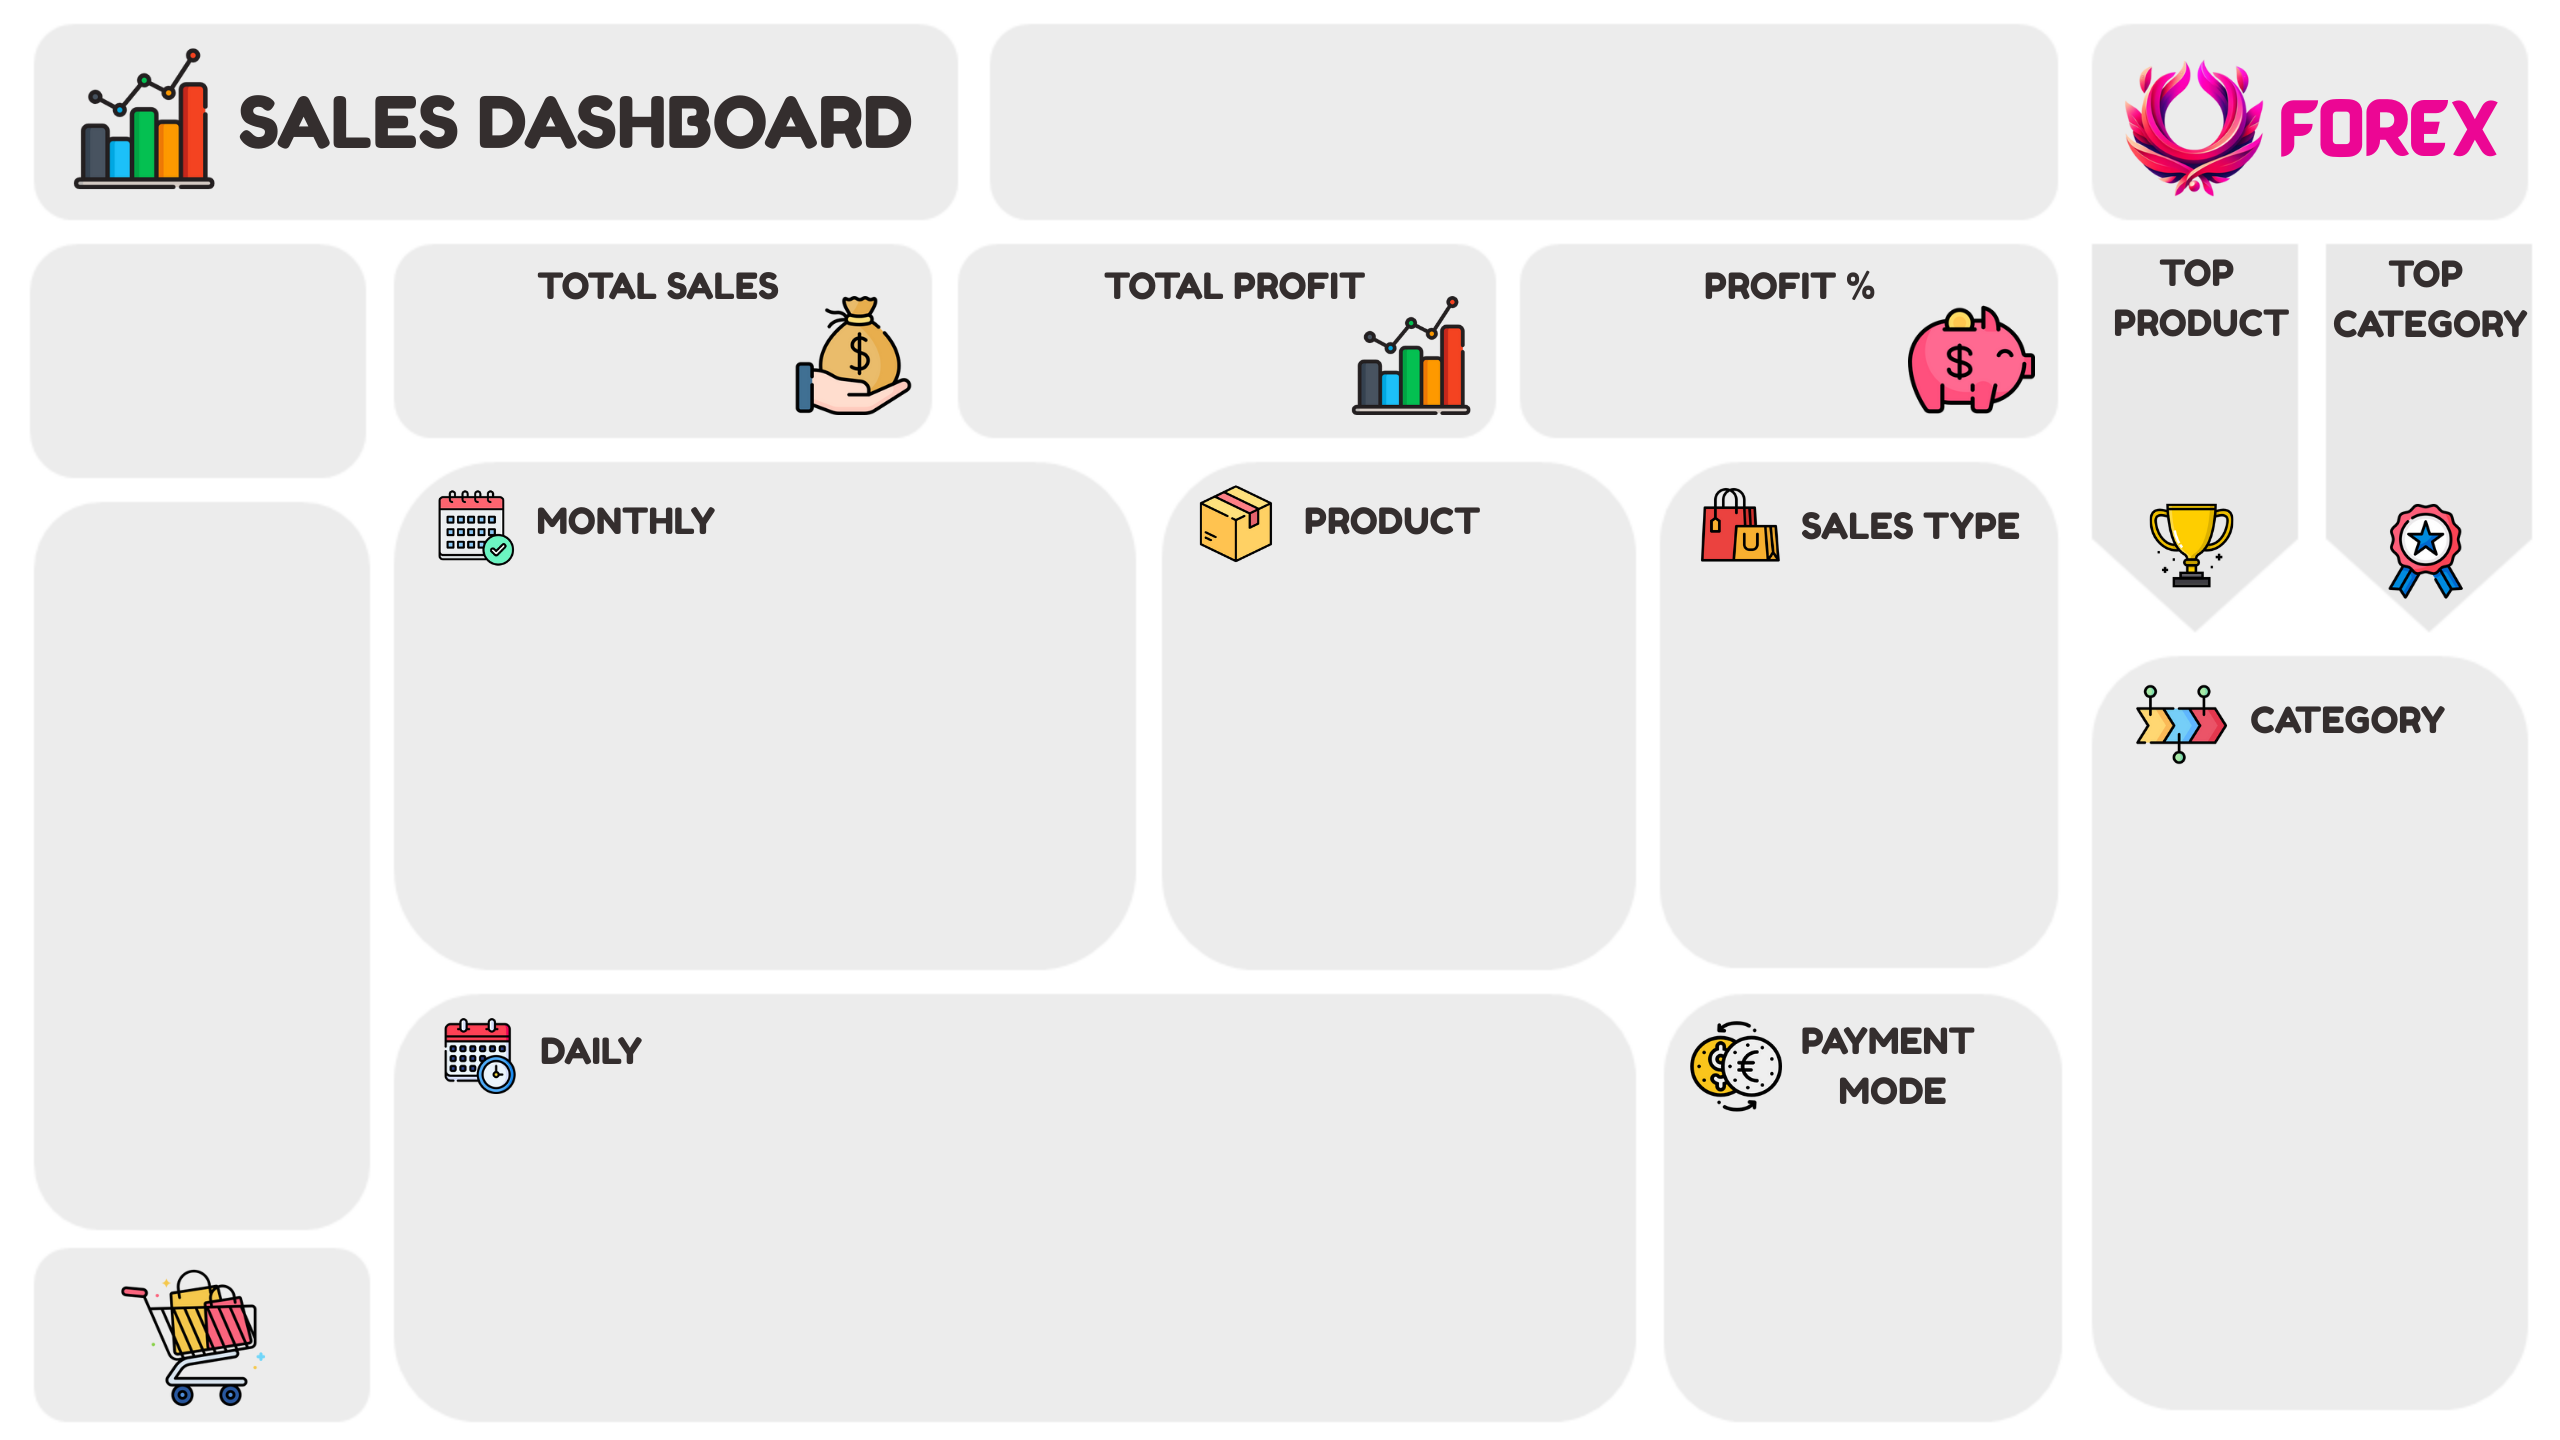

What the dashboard file says about the page in this screenshot:
{"tool":"powerbi","page":{"name":"Page 1","canvas":[1280,720],"ordinal":0},"visuals":[{"type":"slicer","fields":{"Values":["InputData.Year"]},"box":[40.3,132.7,147.8,104.1],"z":0},{"type":"slicer","fields":{"Values":["InputData.SALE TYPE"]},"box":[798.5,24.9,197.7,82.5],"z":1000},{"type":"slicer","fields":{"Values":["InputData.PAYMENT MODE"]},"box":[520.7,25.2,243.6,82.3],"z":2000},{"type":"columnChart","fields":{"Category":["InputData.Month Name"],"Y":["Sum(InputData.Total Selling Value)","InputData.Profit"]},"box":[201.6,263.7,362.8,218.4],"z":3000},{"type":"slicer","fields":{"Values":["InputData.Month Name"]},"box":[40.3,263.7,127.7,347.7],"z":4000},{"type":"card","fields":{"Values":["Sum(InputData.Total Selling Value)"]},"box":[1167.5,159.6,92.4,99.1],"z":5000},{"type":"card","fields":{"Values":["Sum(InputData.Total Selling Value)"]},"box":[204.9,132.7,199.9,99.1],"z":6000},{"type":"card","fields":{"Values":["Sum(InputData.QUANTITY)"]},"box":[999.5,161.3,199.9,99.1],"z":7000},{"type":"card","fields":{"Values":["InputData.Profit %"]},"box":[769.3,132.7,199.9,99.1],"z":8000},{"type":"card","fields":{"Values":["InputData.Profit"]},"box":[492.2,132.7,199.9,99.1],"z":9000},{"type":"clusteredBarChart","fields":{"Category":["InputData.MasterData.PRODUCT"],"Y":["Sum(InputData.Total Selling Value)"]},"box":[582.9,272.1,238.5,216.7],"z":10000},{"type":"areaChart","fields":{"Category":["InputData.DATE.Variation.Date Hierarchy.Day"],"Y":["Sum(InputData.Total Selling Value)"]},"box":[220.1,519.1,601.4,201.6],"z":11000},{"type":"donutChart","fields":{"Y":["Sum(InputData.Total Selling Value)"],"Category":["InputData.SALE TYPE"]},"box":[834.9,280.5,201.6,201.6],"z":12000},{"type":"donutChart","fields":{"Y":["Sum(InputData.Total Selling Value)"],"Category":["InputData.PAYMENT MODE"]},"box":[834.9,532.5,201.6,188.1],"z":13000},{"type":"treemap","fields":{"Values":["Sum(InputData.Total Selling Value)"],"Group":["InputData.MasterData.CATEGORY"]},"box":[1058.3,381.3,199.9,304],"z":14000}]}

Visuals, with their boxes in screenshot pixels (x1, y1, x2, y2), scaled from the page's 1280x720 canvas onto the 2560x1440 screenshot:
slicer - InputData.Year: {"x1": 81, "y1": 265, "x2": 376, "y2": 474}
slicer - InputData.SALE TYPE: {"x1": 1597, "y1": 50, "x2": 1992, "y2": 215}
slicer - InputData.PAYMENT MODE: {"x1": 1041, "y1": 50, "x2": 1529, "y2": 215}
columnChart - InputData.Month Name x Sum(InputData.Total Selling Value): {"x1": 403, "y1": 527, "x2": 1129, "y2": 964}
slicer - InputData.Month Name: {"x1": 81, "y1": 527, "x2": 336, "y2": 1223}
card - Sum(InputData.Total Selling Value): {"x1": 2335, "y1": 319, "x2": 2520, "y2": 517}
card - Sum(InputData.Total Selling Value): {"x1": 410, "y1": 265, "x2": 810, "y2": 464}
card - Sum(InputData.QUANTITY): {"x1": 1999, "y1": 323, "x2": 2399, "y2": 521}
card - InputData.Profit %: {"x1": 1539, "y1": 265, "x2": 1938, "y2": 464}
card - InputData.Profit: {"x1": 984, "y1": 265, "x2": 1384, "y2": 464}
clusteredBarChart - InputData.MasterData.PRODUCT x Sum(InputData.Total Selling Value): {"x1": 1166, "y1": 544, "x2": 1643, "y2": 978}
areaChart - InputData.DATE.Variation.Date Hierarchy.Day x Sum(InputData.Total Selling Value): {"x1": 440, "y1": 1038, "x2": 1643, "y2": 1439}
donutChart - Sum(InputData.Total Selling Value) x InputData.SALE TYPE: {"x1": 1670, "y1": 561, "x2": 2073, "y2": 964}
donutChart - Sum(InputData.Total Selling Value) x InputData.PAYMENT MODE: {"x1": 1670, "y1": 1065, "x2": 2073, "y2": 1439}
treemap - Sum(InputData.Total Selling Value) x InputData.MasterData.CATEGORY: {"x1": 2117, "y1": 763, "x2": 2516, "y2": 1371}
